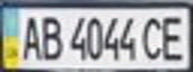0: (84, 12, 106, 62)
4: (118, 12, 142, 62), (63, 11, 87, 61), (103, 12, 124, 61)
A: (15, 11, 45, 62)
B: (36, 11, 63, 62)
C: (139, 11, 169, 62)
E: (157, 11, 190, 62)
